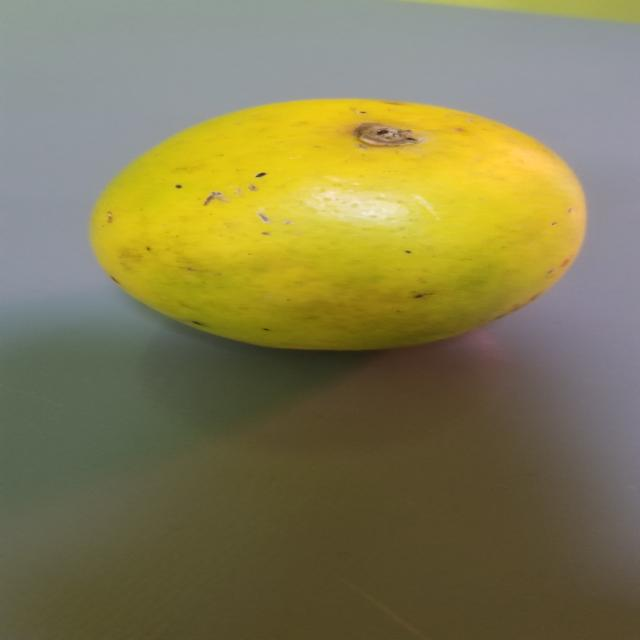Ripe orange: (85, 94, 597, 349)
